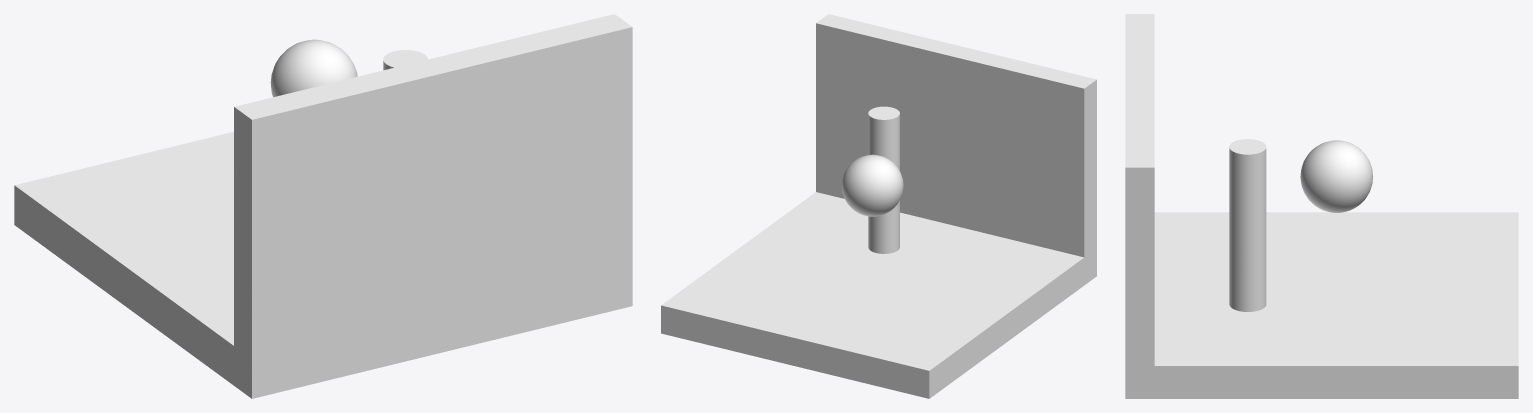
Rendered from room_thickwalls.obj.
3 views of the same model, side by side, from view 1: azimuth 30°, elevation 25°; view 2: azimuth 150°, elevation 25°; view 3: azimuth 270°, elevation 25° (orthographic). The views are drawn at different scales.
Visible parts, largest first — view 1: Sphere; view 2: Sphere; view 3: Sphere.
Boxes of the visible parts, x1,y1,x2,y2 form: Sphere: (14,14,632,398); Sphere: (661,14,1096,398); Sphere: (1125,14,1518,398).
Size of the model in its own units: 10 by 7.01 by 10.81.
Materials: 1 (1 with a texture image).
